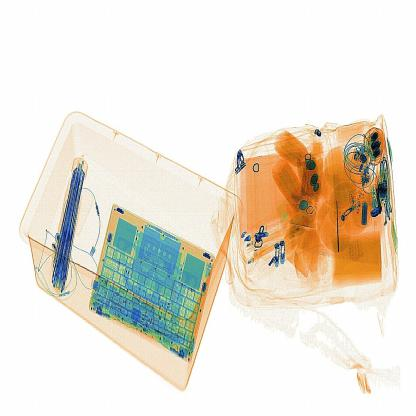wrench: (327, 172, 343, 252)
